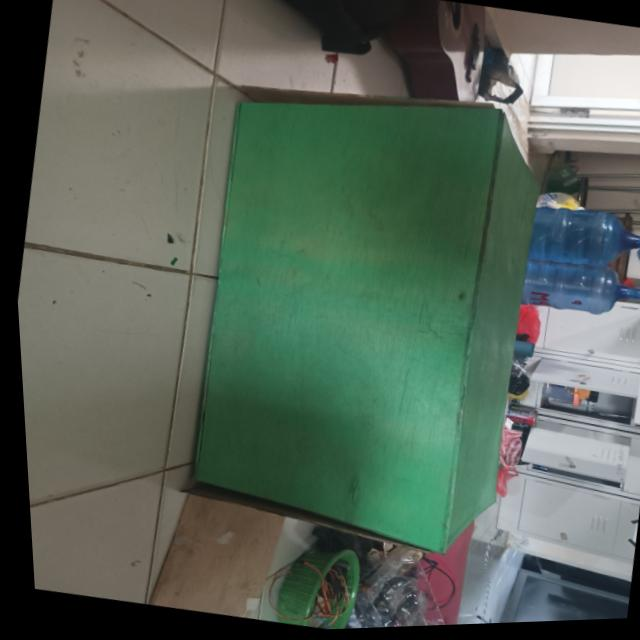green_box: (119, 29, 616, 597)
